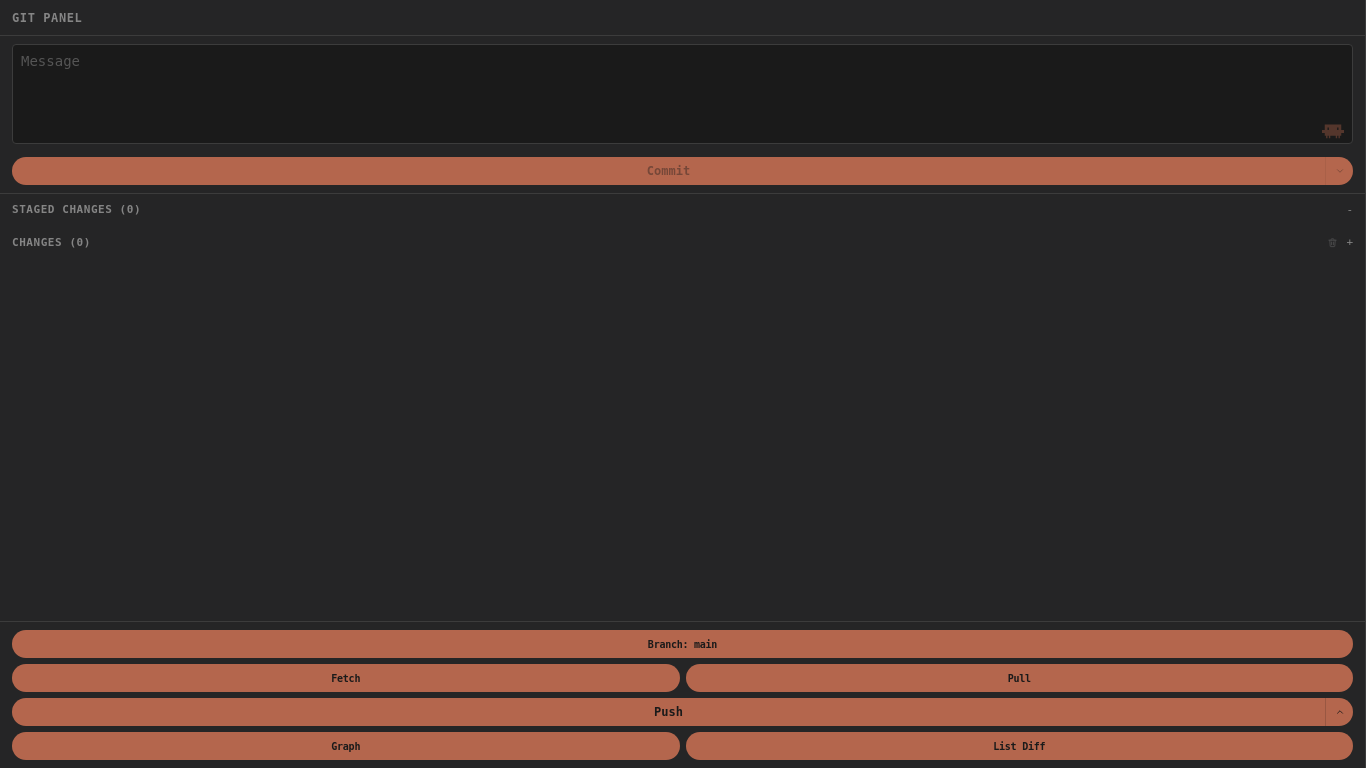
Test case: GitPanel — push options (force push) › clicking the options chevron opens a panel with Publish Branch, Force Push, and Force Push with Lease
What coordinates should you click on to do the following:
click the button named "Push options"
I would click on:
 (1339, 712)
Its box is [1325,698,1353,726].
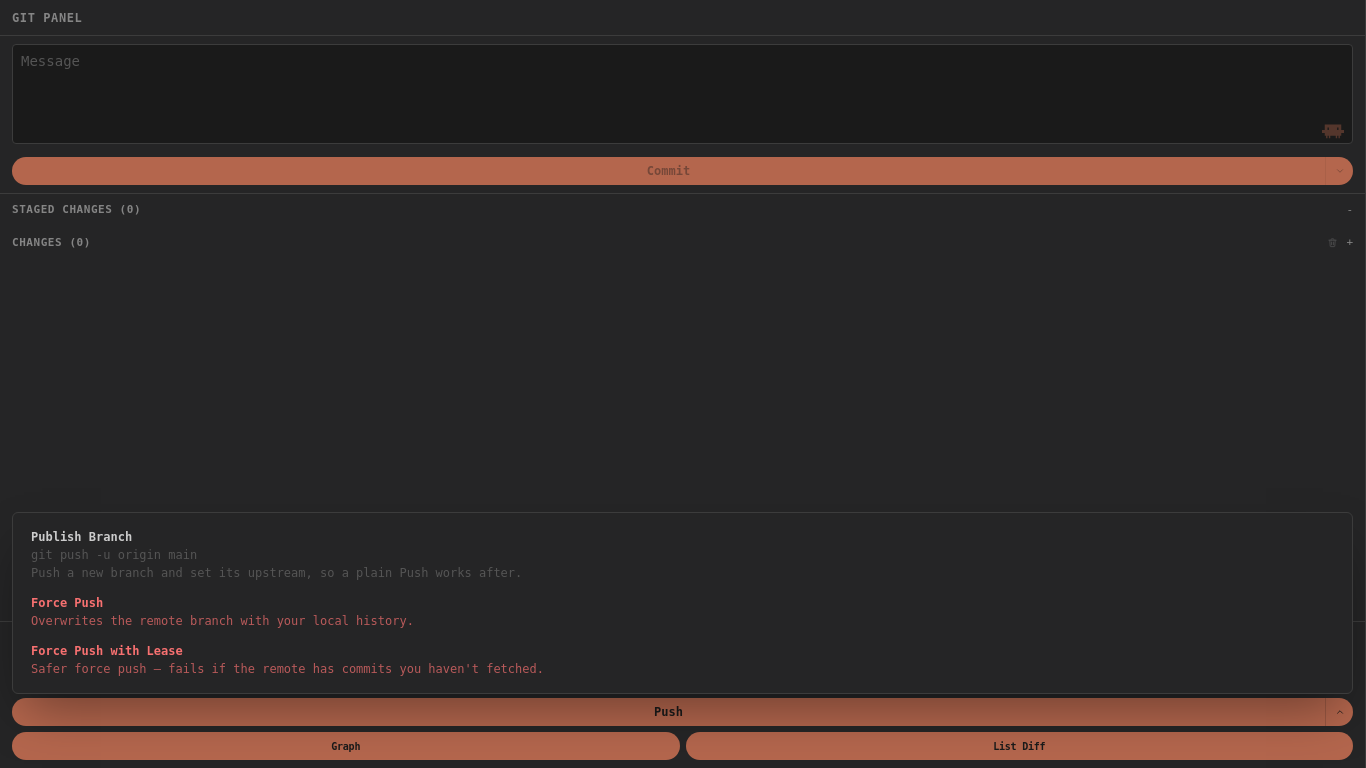
Expected: the text "Publish Branch" is shown, [31,529,132,545]
Expected: the text "Force Push" is shown, [31,595,103,611]
Expected: the text "Force Push with Lease" is shown, [31,643,183,659]
